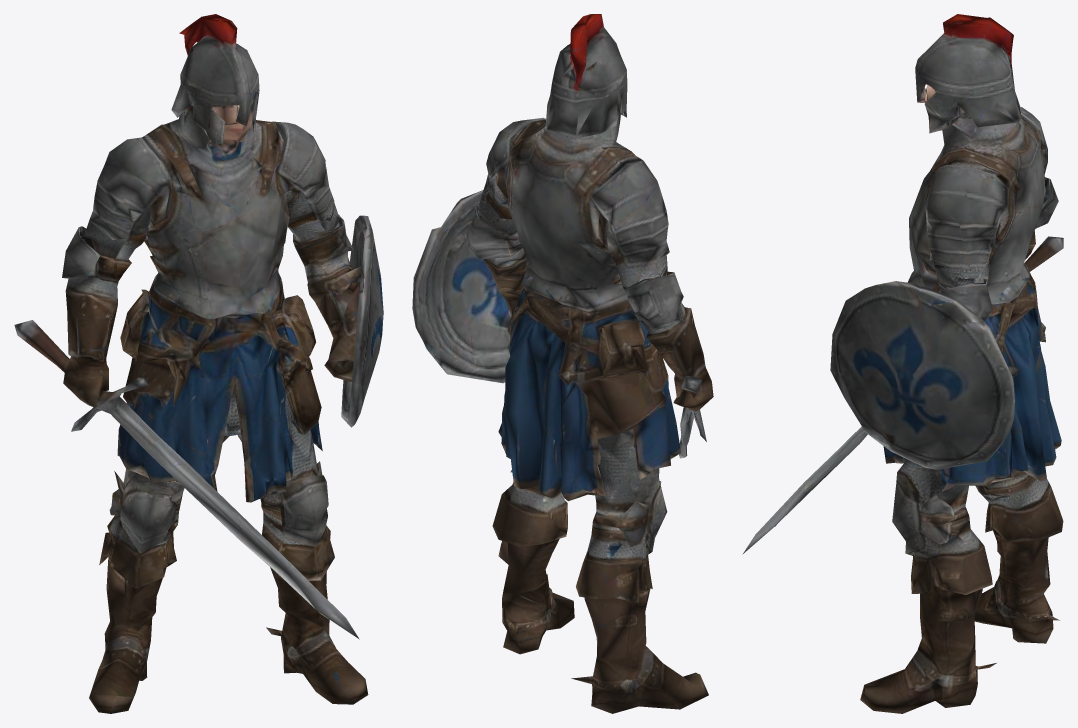
The model's file is espadachin.glb.
3 renders of one model, left to right at view 1: azimuth 30°, elevation 25°; view 2: azimuth 150°, elevation 25°; view 3: azimuth 270°, elevation 25°, orthographic. The views are drawn at different scales.
Size of the model in its own units: 0.9368 by 1.9 by 0.8518.
Materials: 1 (1 with a texture image).
